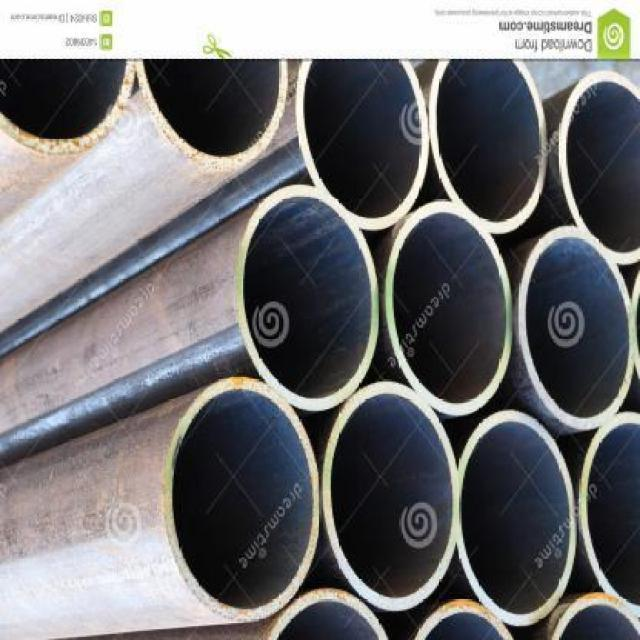pipe: (165, 379, 322, 624), (235, 185, 380, 411), (323, 380, 459, 613), (385, 201, 513, 417), (457, 411, 577, 628), (518, 226, 634, 431), (296, 59, 430, 230), (430, 53, 548, 233), (136, 57, 287, 170), (560, 71, 640, 264), (0, 60, 134, 157)
